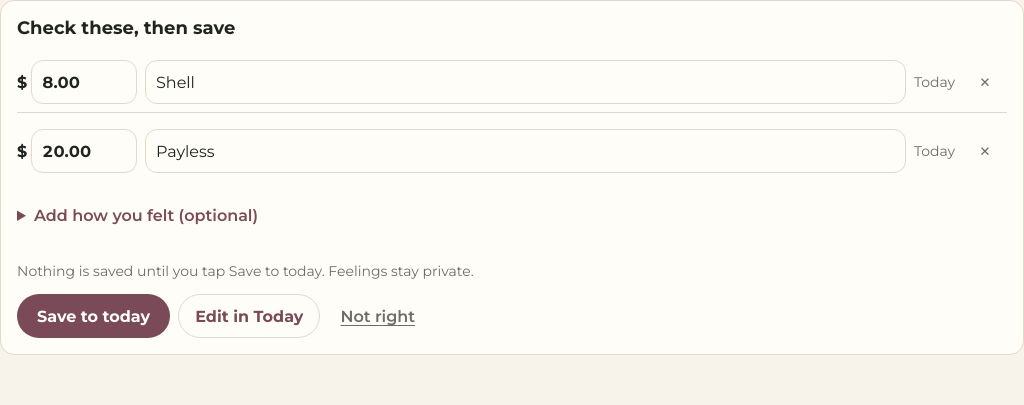
Scenario: Mia daily report card › reports partial failure plainly, keeps the card for a new message, and retries only what did not save
Click the button "Save to today" at (94, 316), box [17,294,170,338]
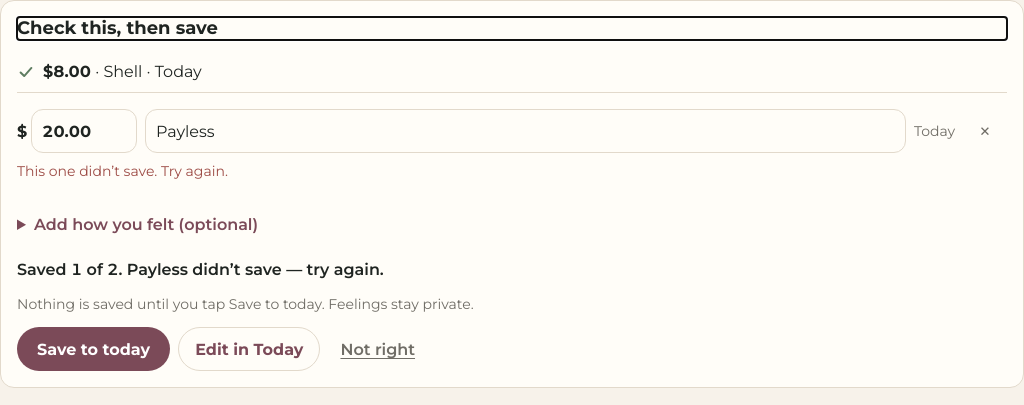
Expected: the text "Saved 1 of 2. Payless didn’t save — try again." is shown, [17,260,384,279]
Expected: the text "This one didn’t save. Try again." is shown, [17,162,228,180]
Click the button "Save to today" at (94, 349), box [17,327,170,371]
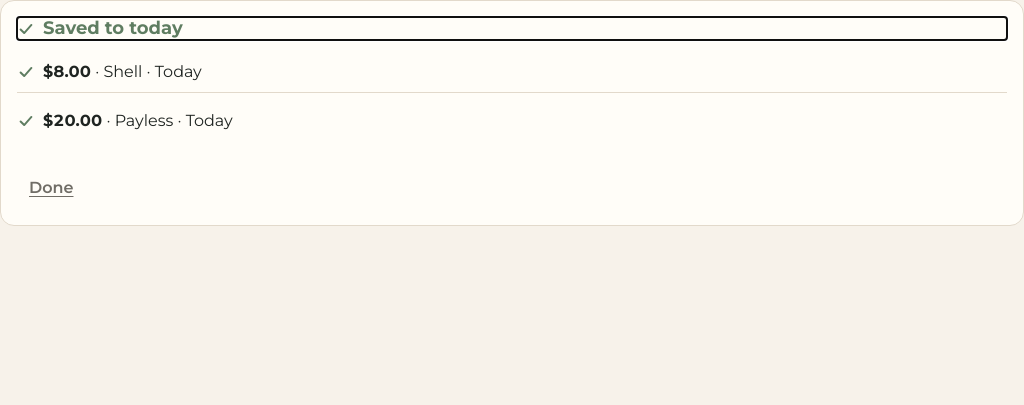
Expected: the heading "Saved to today" is shown, [17,17,183,39]
